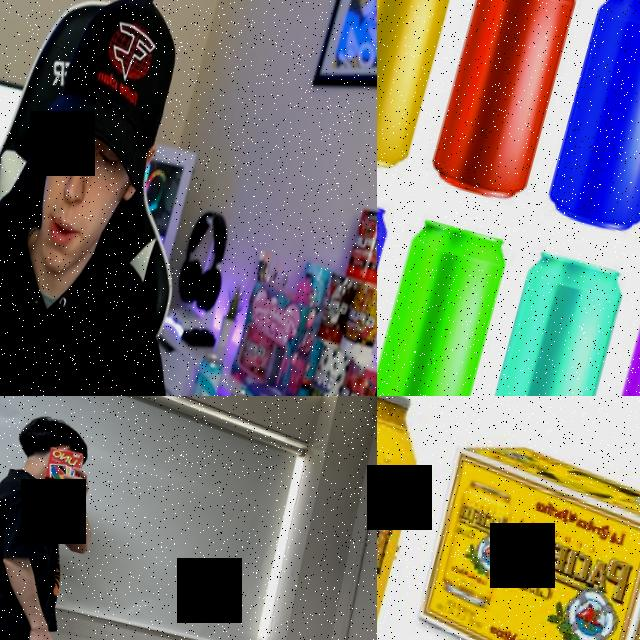can: (423, 0, 584, 206), (377, 214, 513, 396), (538, 0, 640, 240), (470, 247, 629, 396), (377, 396, 443, 640), (377, 0, 465, 174), (172, 352, 225, 396)
